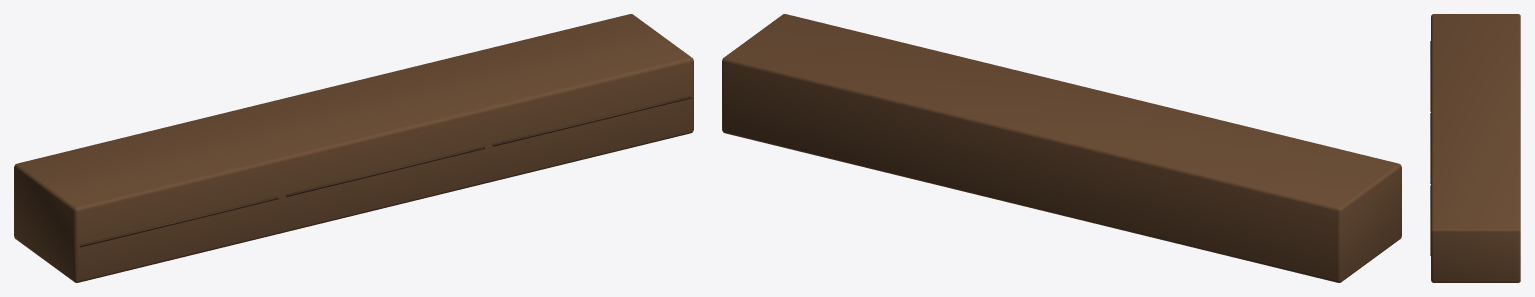
Rendered from bl_tv_console.glb.
3 renders of one model, left to right at view 1: azimuth 30°, elevation 25°; view 2: azimuth 150°, elevation 25°; view 3: azimuth 270°, elevation 25°, orthographic. The views are drawn at different scales.
Visible parts, largest first — view 1: body, groove0, groove2, groove1; view 2: body; view 3: body, groove0, groove1, groove2.
Part boxes in pixels (<box>): body: <box>14,14,693,282</box>; groove0: <box>79,196,278,247</box>; groove2: <box>492,96,691,146</box>; groove1: <box>286,146,484,196</box>; body: <box>722,14,1401,282</box>; body: <box>1431,14,1520,282</box>; groove0: <box>1430,41,1430,111</box>; groove1: <box>1430,113,1430,183</box>; groove2: <box>1430,185,1430,255</box>.
Bounding box in the file's own units: 2.4 × 0.289 × 0.4245.
